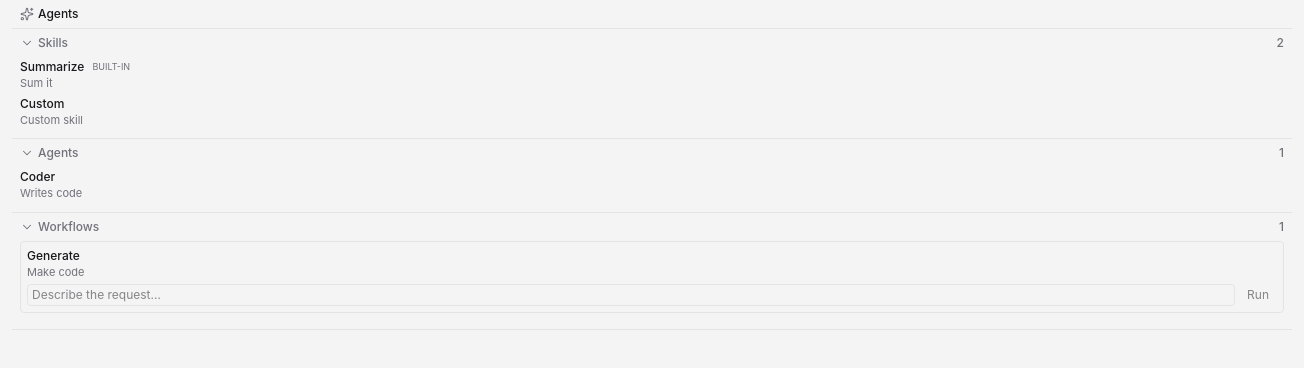
AgentsPanel › shows an inline error when the run fails
expect the list item with test id "workflow-w1" is shown: met, box [20, 240, 1284, 313]
Type "go" into the field with test id "workflow-prompt-w1". click: point(631, 295)
box: [27, 284, 1235, 306]
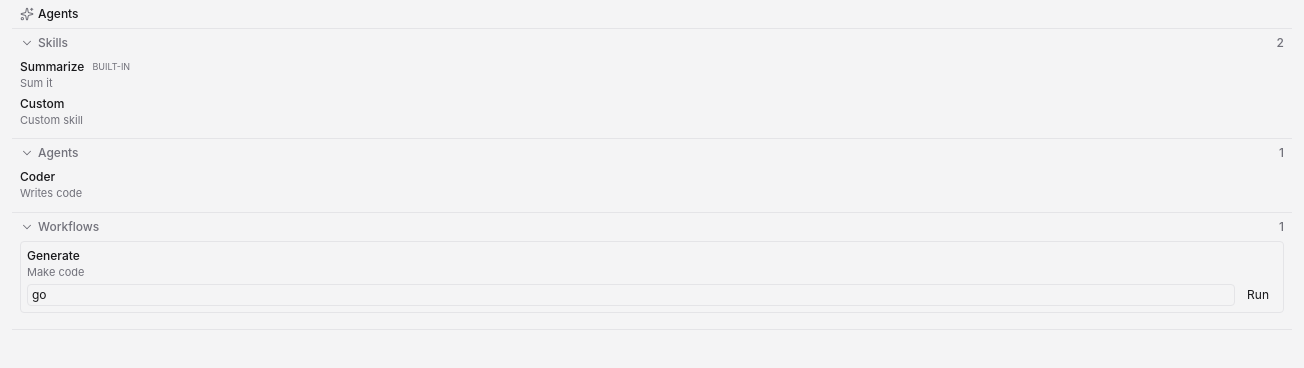
Click the button with test id "workflow-run-w1". click: point(1258, 295)
box: [1239, 285, 1277, 305]
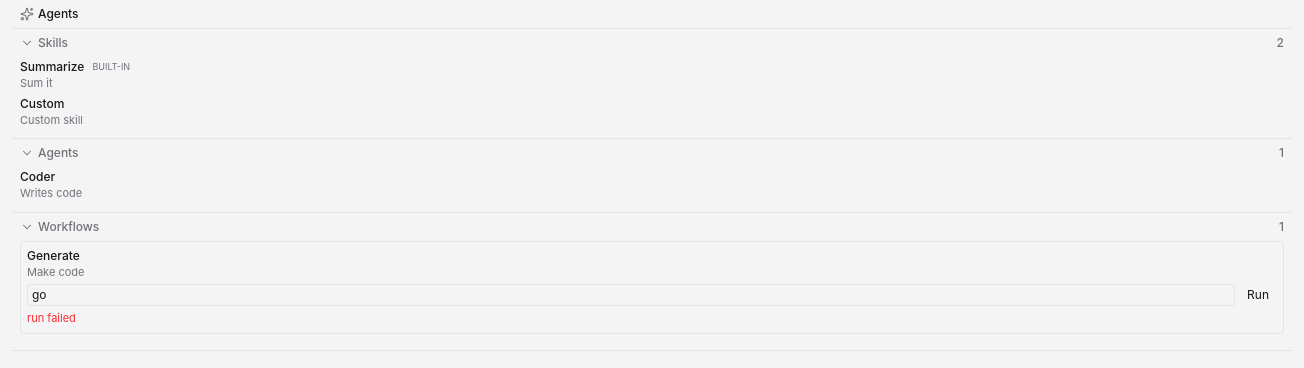
expect the text with test id "workflow-error-w1" reads "run failed": met, box [27, 311, 76, 325]
